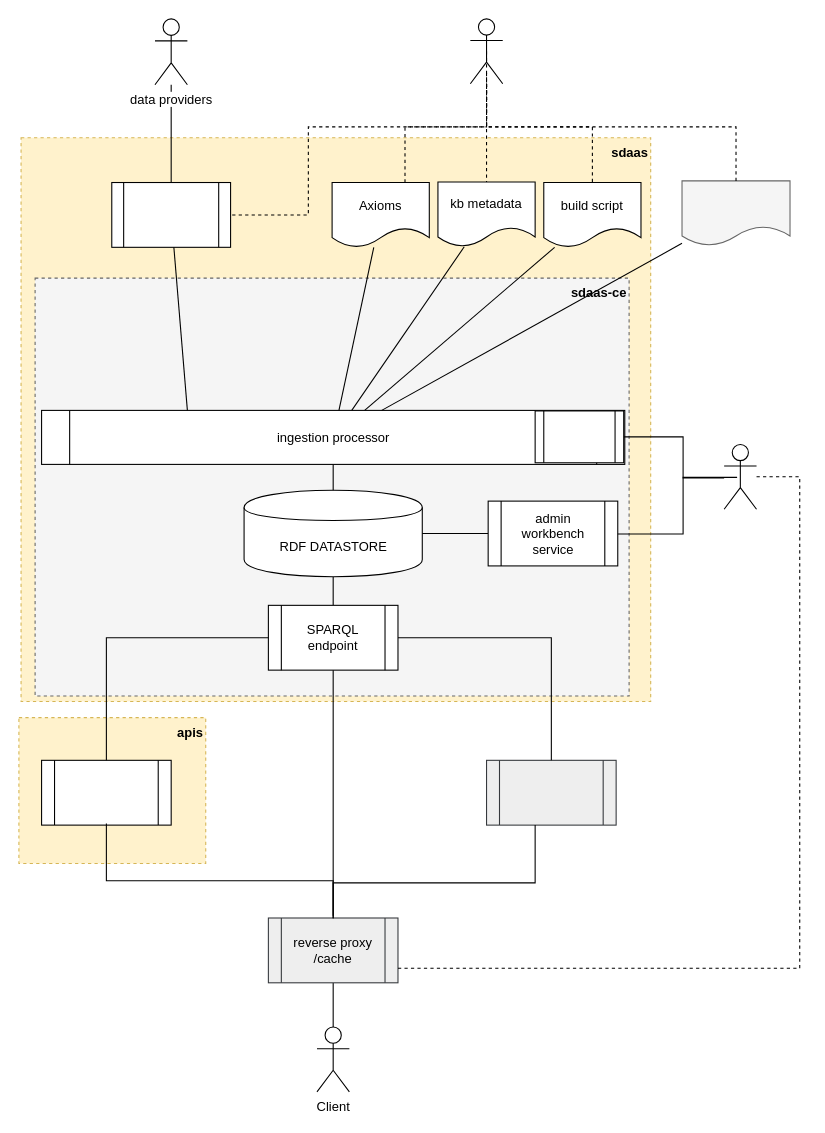
The diagram is 825 pixels wide and 1133 high, and some of its shapes have lost their labels. The centre of each missing label's shape, as x and y in pixels:
"data scientist" goes at (x=486, y=51).
"gateways" goes at (x=171, y=214).
"LDP APIs service" goes at (x=105, y=792).
"LODVIEW" goes at (x=550, y=792).
"ontologies" goes at (x=735, y=213).
"sdaas cli" goes at (x=579, y=436).
"Service admin" goes at (x=740, y=476).
